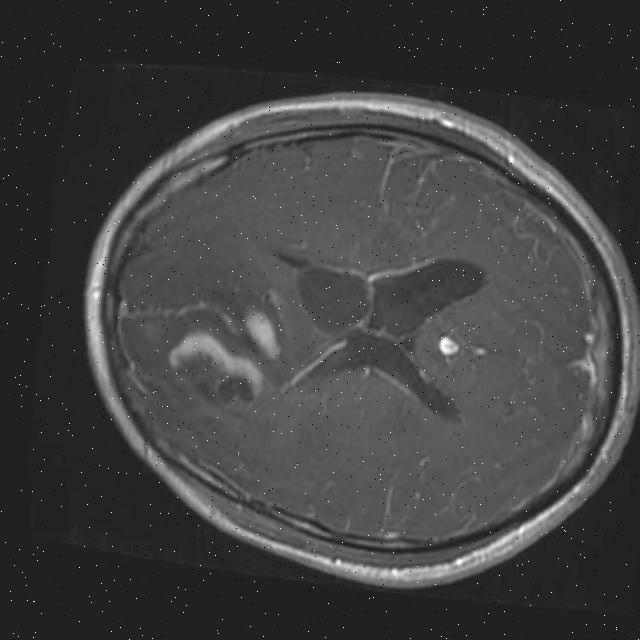Glioma: (159, 322, 272, 418), (235, 303, 289, 363)
